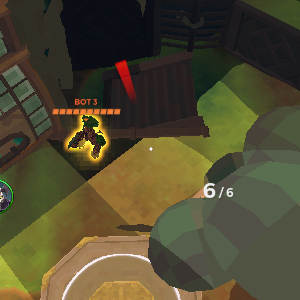model: (66, 118, 111, 162)
